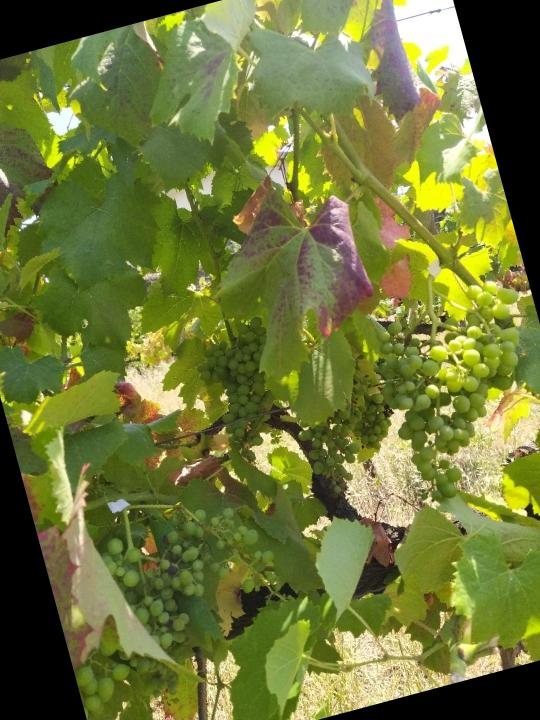grape: (45, 489, 314, 720), (359, 272, 540, 511), (188, 312, 303, 465)
